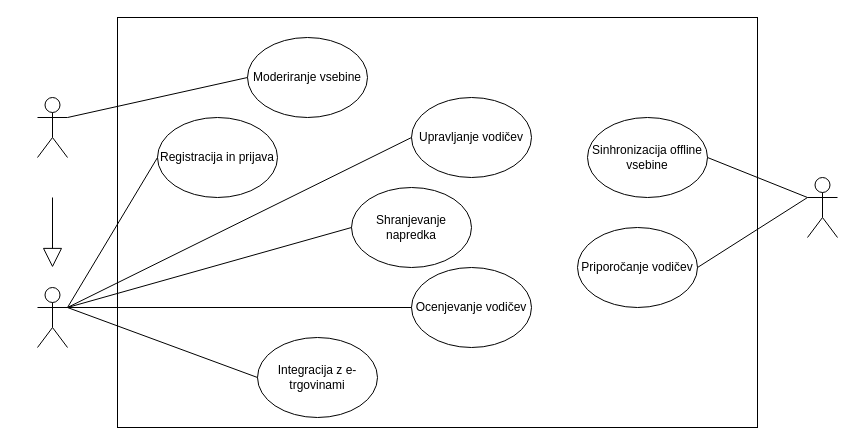
Some shapes in this 858 by 445 pixel diagram are drawn without their labels. The centre of each missing label's shape, as x and y in pixels:
"Administrator" belongs at [52,127].
"Sistem" belongs at [822,207].
"Uporabnik" belongs at [52,317].
